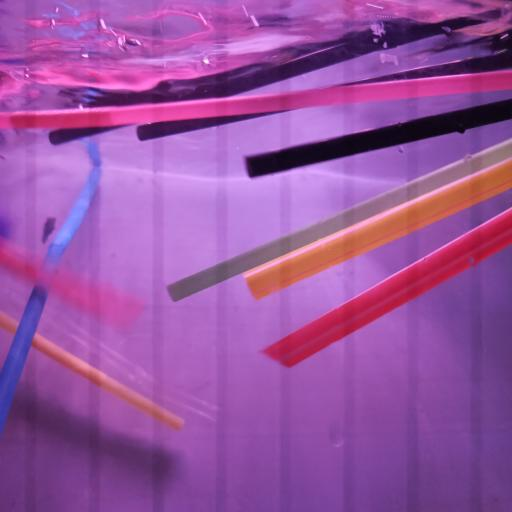plastic_straw: (45, 14, 512, 148), (167, 138, 512, 302), (257, 204, 512, 370), (242, 155, 512, 304), (0, 65, 512, 138), (126, 49, 512, 144), (4, 162, 102, 444), (2, 306, 189, 438), (243, 95, 512, 182), (0, 242, 145, 336)
